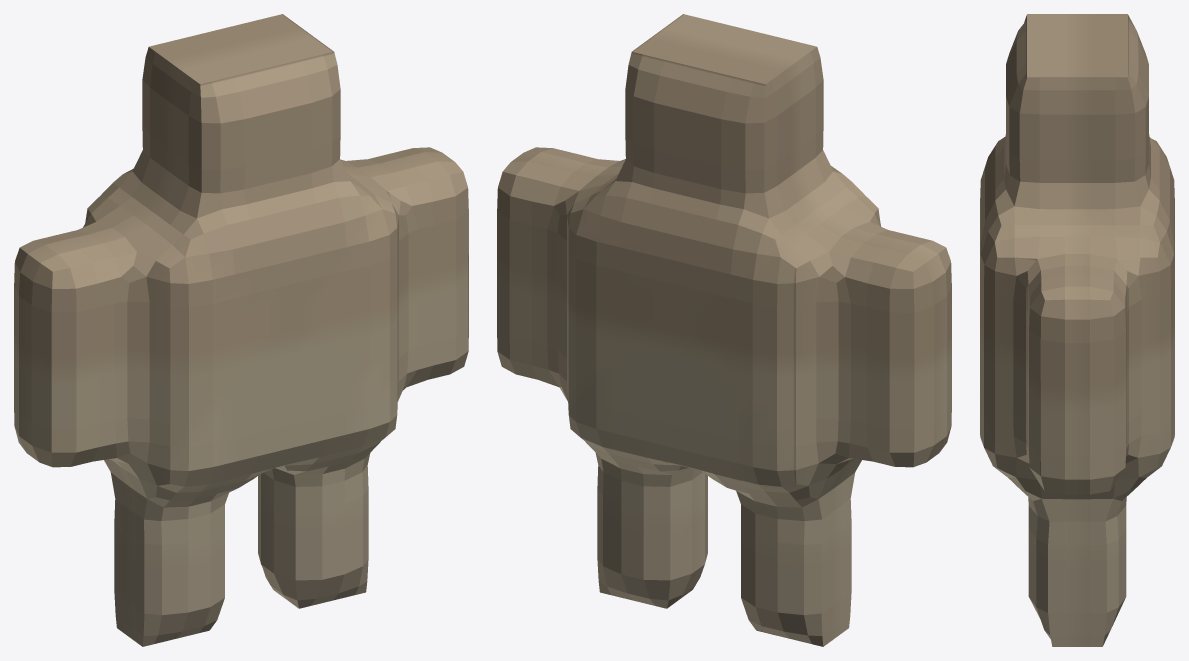
File: mimic.glb
The picture shows the model from 3 angles, left to right: view 1: azimuth 30°, elevation 25°; view 2: azimuth 150°, elevation 25°; view 3: azimuth 270°, elevation 25°; orthographic projection. The views are drawn at different scales.
Visible parts, largest first — view 1: geometry_0; view 2: geometry_0; view 3: geometry_0.
Boxes of the visible parts, left/top/right/bottom form: geometry_0: left=14, top=14, right=468, bottom=646; geometry_0: left=497, top=14, right=951, bottom=646; geometry_0: left=980, top=14, right=1174, bottom=646.
Size of the model in its own units: 0.8065 by 1 by 0.3226.
Materials: 1 (1 with a texture image).
